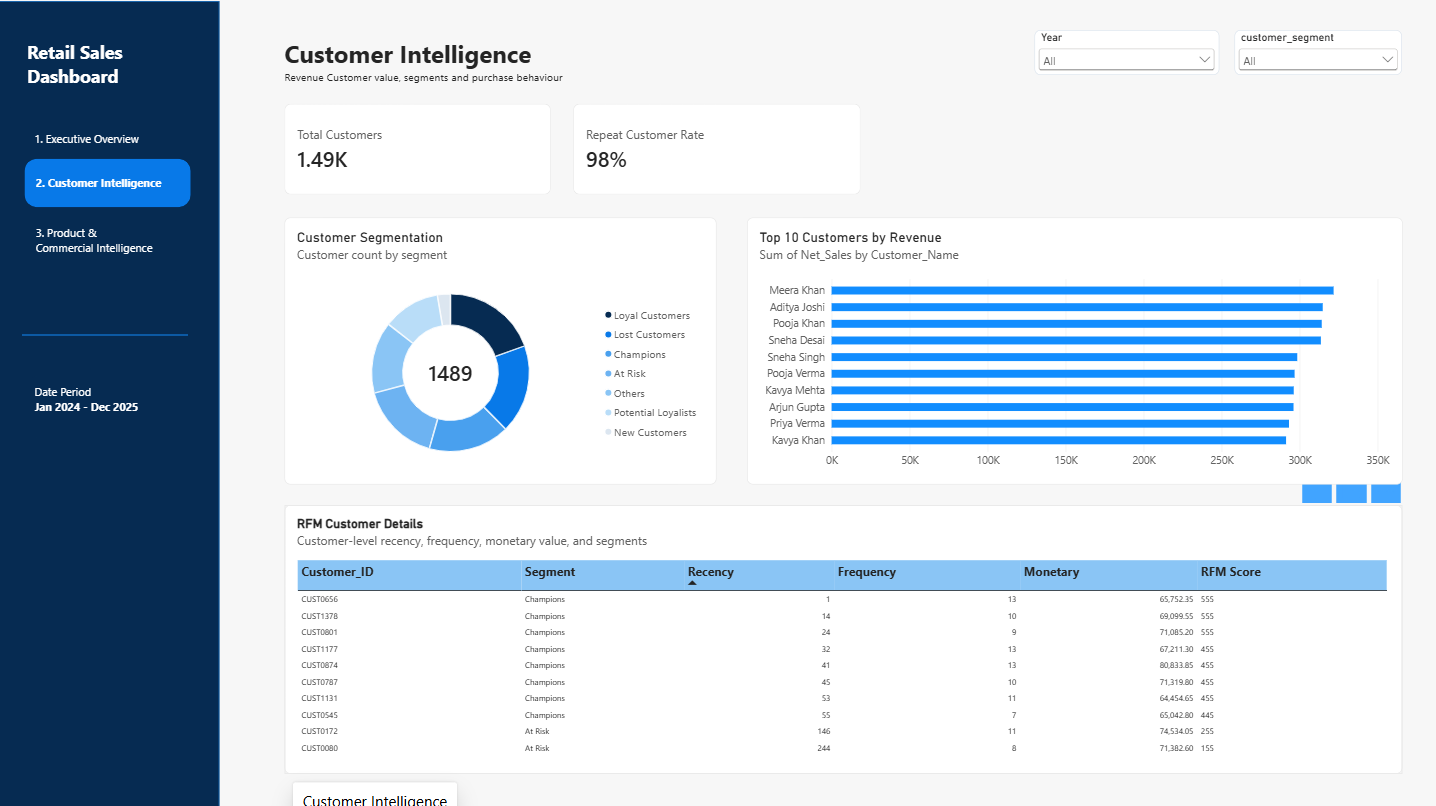

Layout of this report page (visuals, bound fields, positions):
{"tool":"powerbi","page":{"name":"Customer Intelligence","canvas":[1920,1080],"ordinal":1},"visuals":[{"type":"shape","box":[0,1.7,296.5,1077.9],"z":0,"group":"g2"},{"type":"slicer","fields":{"Values":["DateTable.Year"]},"box":[1384,40,246,60],"z":0},{"type":"textbox","box":[382.5,50,710,100],"z":1000},{"type":"group","id":"g1","title":"Group 1","box":[12.2,50.5,277.3,101.2],"z":1000,"group":"g2"},{"type":"group","id":"g2","title":"Group 6","box":[0,1.7,296.5,1077.9],"z":2000},{"type":"group","id":"g3","title":"Group 2","box":[37.5,500.5,221.2,86.2],"z":2000,"group":"g2"},{"type":"slicer","fields":{"Values":["ecommerce_analytics customer_rfm.customer_segment"]},"box":[1650,40,223.3,60],"z":3000},{"type":"shape","box":[37.3,288.1,221.5,85.3],"z":3000,"group":"g2"},{"type":"cardVisual","title":" REPEAT CUSTOMER RAT","fields":{"Data":["ecommerce_analytics ecommerce_sales_clean.Repeat Customer Rate"]},"box":[768.3,138.3,383.3,121.7],"z":4000},{"type":"textbox","box":[51.7,300.6,165,63.3],"z":4000,"group":"g2"},{"type":"cardVisual","title":"TOTAL CUSTOMERS  ","fields":{"Data":["DateTable.Total Customers"]},"box":[383.3,138.3,355,121.7],"z":5000},{"type":"shape","box":[33.8,436.7,221.2,20],"z":5000,"group":"g2"},{"type":"group","id":"g4","title":"Group 4","box":[33.3,152.3,228.3,60],"z":6000,"group":"g2"},{"type":"donutChart","title":"Customer Segmentation","fields":{"Category":["ecommerce_analytics customer_rfm.customer_segment"],"Y":["ecommerce_analytics customer_rfm.Customers by RFM Segment"]},"box":[384,290,576,356],"z":6000},{"type":"tableEx","title":"RFM Customer Details","fields":{"Values":["ecommerce_analytics customer_rfm.Customer_ID","ecommerce_analytics customer_rfm.customer_segment","ecommerce_analytics customer_rfm.recency","ecommerce_analytics customer_rfm.frequency","ecommerce_analytics customer_rfm.monetary","ecommerce_analytics customer_rfm.rfm_score"]},"box":[384,674,1490,358],"z":7000},{"type":"clusteredBarChart","title":"Top 10 Customers by Revenue","fields":{"Category":["ecommerce_analytics ecommerce_sales_clean.Customer_Name"],"Y":["Sum(ecommerce_analytics ecommerce_sales_clean.Net_Sales)"]},"box":[1000,290,874,356],"z":9000},{"type":"shape","box":[12.2,50.5,277.3,101.2],"z":14000,"group":"g6"},{"type":"shape","box":[36.7,211.7,221.5,64.5],"z":14000,"group":"g5"},{"type":"textbox","box":[40.5,54.5,206.9,73.8],"z":15000,"group":"g6"},{"type":"textbox","box":[51,233.2,208,23],"z":15000,"group":"g5"},{"type":"group","id":"g5","title":"Group 3","box":[36.7,211.7,222.3,64.5],"z":15001},{"type":"shape","box":[33.3,152.3,228.3,60],"z":16000,"group":"g4"},{"type":"shape","box":[37.5,500.5,221.5,85.3],"z":17000,"group":"g3"},{"type":"textbox","box":[49.4,175.3,180,23.3],"z":18000,"group":"g4"},{"type":"textbox","box":[49.3,512.9,167.7,62.3],"z":18001,"group":"g3"},{"type":"group","id":"g6","title":"Group 5","box":[12.2,50.5,277.3,101.2],"z":19002,"group":"g1"}]}

Visuals, with their boxes on the page's 1920x1080 design canvas (x1, y1, x2, y2). These are canvas units, not pixel positions in the 1436x806 screenshot, which may show the page scaled, cropped or inside an application window:
shape: x1=0, y1=2, x2=296, y2=1080
slicer - DateTable.Year: x1=1384, y1=40, x2=1630, y2=100
textbox: x1=382, y1=50, x2=1092, y2=150
"Group 1" group: x1=12, y1=50, x2=290, y2=152
"Group 6" group: x1=0, y1=2, x2=296, y2=1080
"Group 2" group: x1=38, y1=500, x2=259, y2=587
slicer - ecommerce_analytics customer_rfm.customer_segment: x1=1650, y1=40, x2=1873, y2=100
shape: x1=37, y1=288, x2=259, y2=373
" REPEAT CUSTOMER RAT" cardVisual: x1=768, y1=138, x2=1152, y2=260
textbox: x1=52, y1=301, x2=217, y2=364
"TOTAL CUSTOMERS  " cardVisual: x1=383, y1=138, x2=738, y2=260
shape: x1=34, y1=437, x2=255, y2=457
"Group 4" group: x1=33, y1=152, x2=262, y2=212
"Customer Segmentation" donutChart: x1=384, y1=290, x2=960, y2=646
"RFM Customer Details" tableEx: x1=384, y1=674, x2=1874, y2=1032
"Top 10 Customers by Revenue" clusteredBarChart: x1=1000, y1=290, x2=1874, y2=646
shape: x1=12, y1=50, x2=290, y2=152
shape: x1=37, y1=212, x2=258, y2=276
textbox: x1=40, y1=54, x2=247, y2=128
textbox: x1=51, y1=233, x2=259, y2=256
"Group 3" group: x1=37, y1=212, x2=259, y2=276
shape: x1=33, y1=152, x2=262, y2=212
shape: x1=38, y1=500, x2=259, y2=586
textbox: x1=49, y1=175, x2=229, y2=199
textbox: x1=49, y1=513, x2=217, y2=575
"Group 5" group: x1=12, y1=50, x2=290, y2=152
